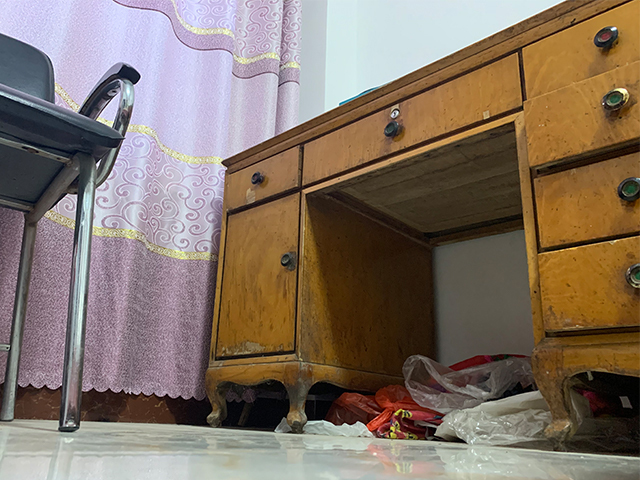cabinet: (204, 1, 640, 454)
curtain: (1, 1, 305, 405)
stool: (1, 32, 142, 433)
